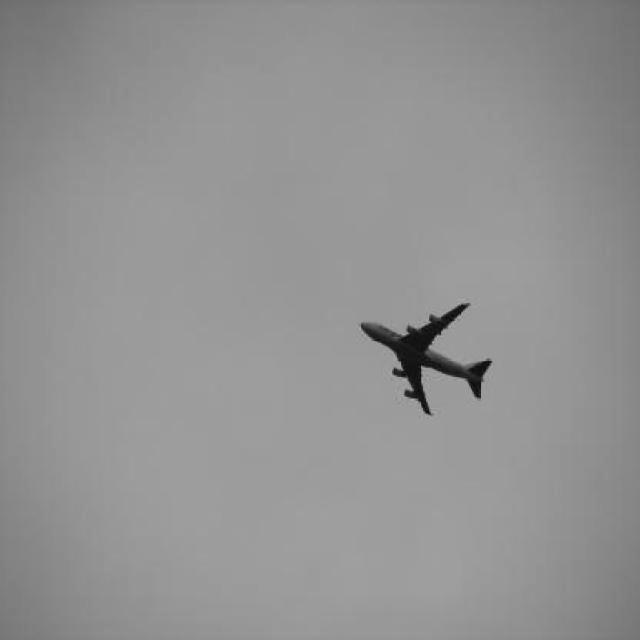aeroplane: (347, 296, 491, 421)
